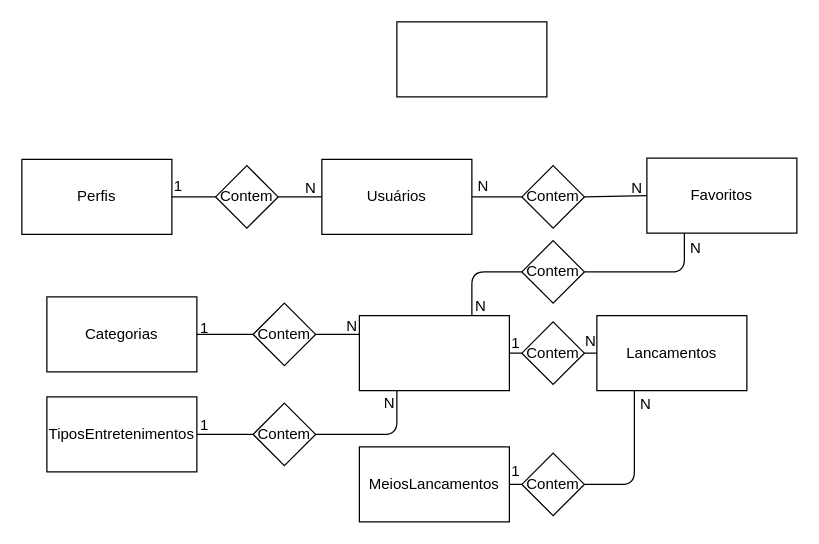
The diagram is 819 pixels wide and 544 high, and some of its shapes have lost their labels. Here are the shapes that lost their labels. From the top down, the box of each, then its label:
(396, 21, 547, 97): Diagrama Conceitual OpFlix - Cleís
(358, 314, 509, 391): Entretenimentos
